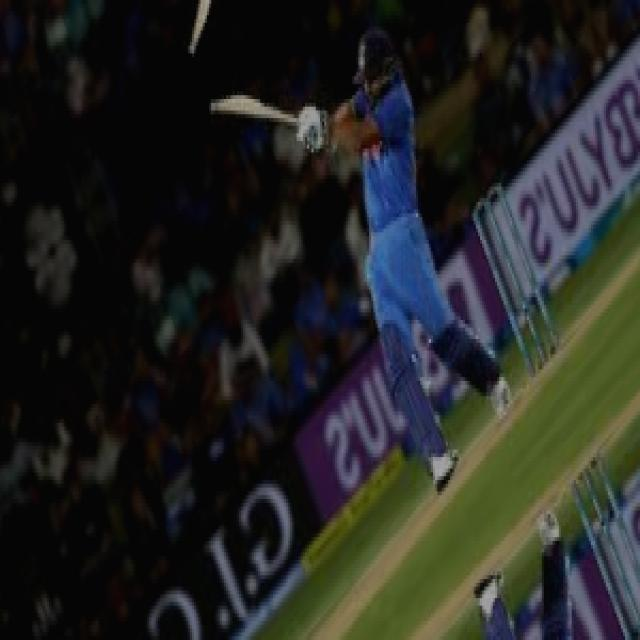toe: (210, 95, 226, 113)
